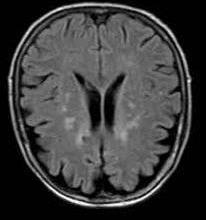Normal_Brain: (1, 1, 201, 220)
